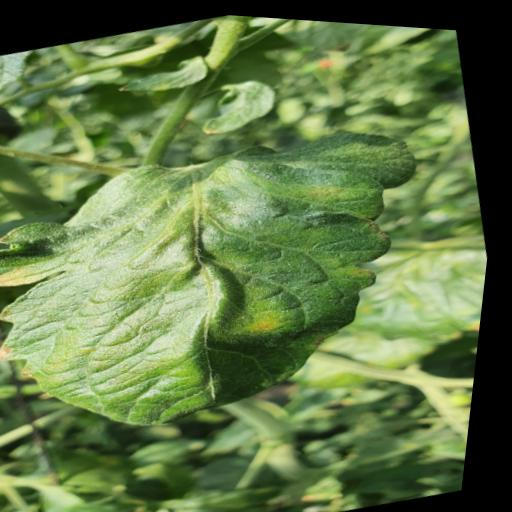Leaf Mold: (0, 87, 479, 480)
